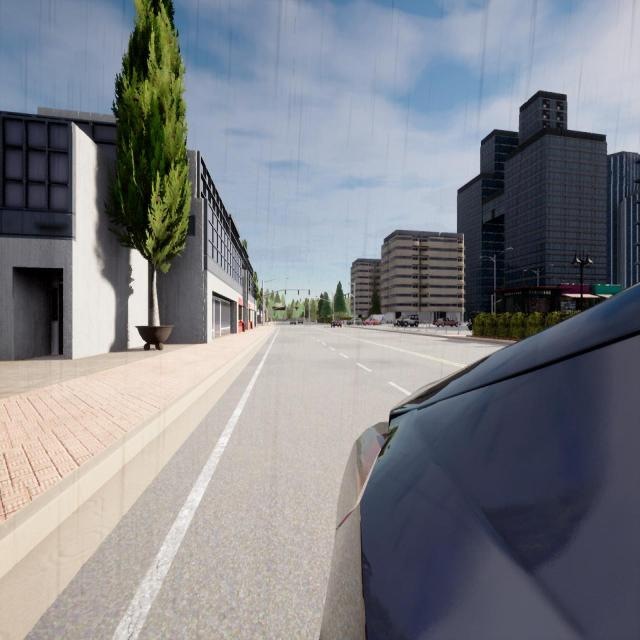Vehicle: (321, 285, 639, 638), (396, 315, 419, 327), (364, 314, 384, 326), (436, 318, 458, 327), (468, 312, 474, 330), (348, 318, 361, 325), (331, 320, 341, 328), (290, 319, 296, 325), (298, 320, 303, 324)
traffic_light: (308, 290, 310, 295), (332, 310, 334, 313), (285, 290, 286, 295), (298, 290, 299, 295), (345, 294, 346, 298), (308, 298, 309, 302), (348, 294, 349, 298), (301, 299, 301, 301), (318, 299, 318, 302)
